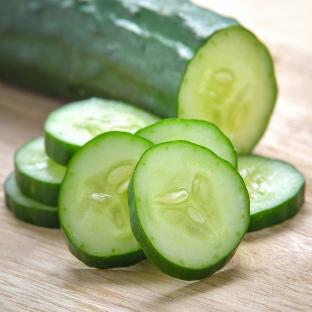Cucumber: (0, 0, 276, 152), (129, 141, 249, 279), (59, 132, 153, 268), (45, 98, 159, 165), (238, 155, 304, 231), (136, 119, 237, 167), (15, 137, 66, 206), (5, 173, 59, 227)
